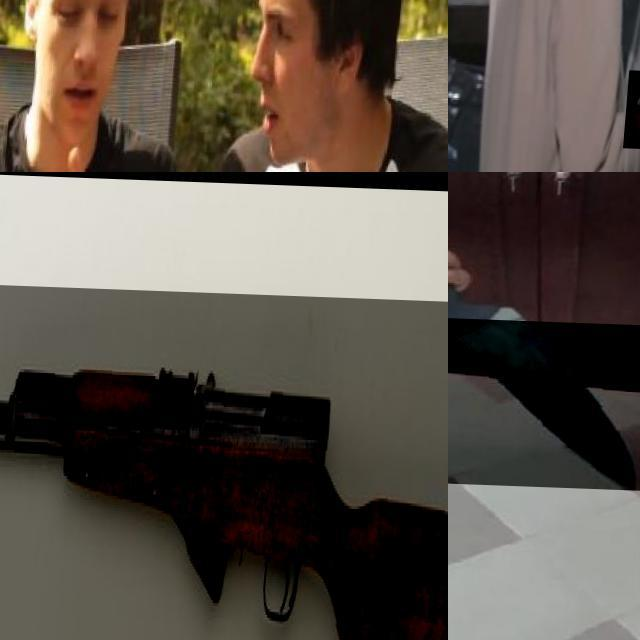-: (448, 315, 640, 487)
gun-knife-thesis - v11 Yolov5 augmented: (0, 281, 448, 640)
